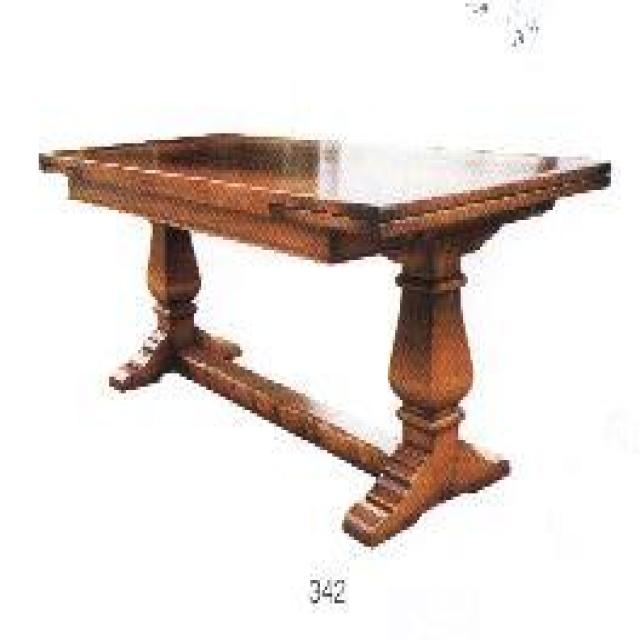table: (36, 125, 612, 552)
